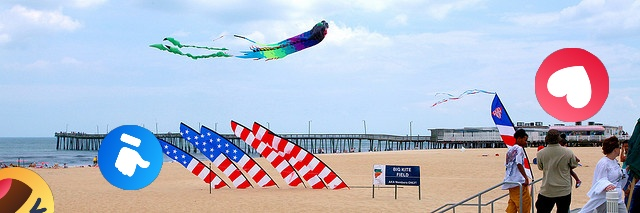haha: (0, 167, 54, 213)
like: (98, 125, 163, 190)
love: (535, 48, 609, 122)
